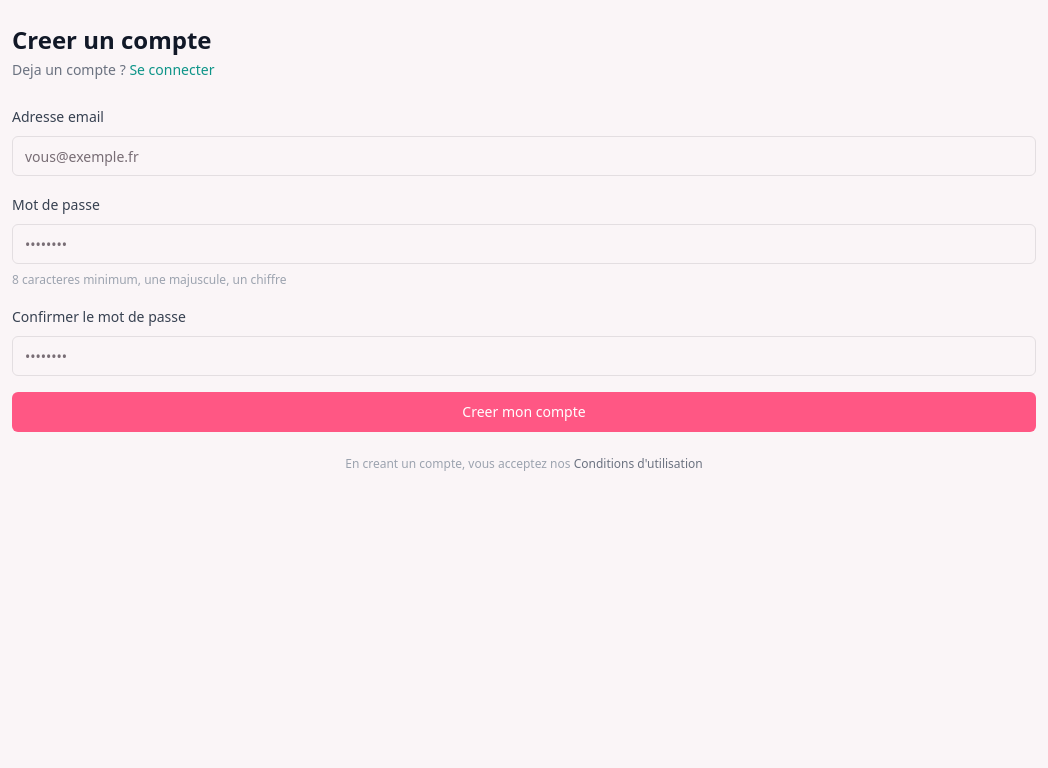
Test case: RegisterPage › shows server error when registration fails
In the field labelled "Adresse email": x=524, y=156 [12,136,1036,176], type "existing@example.com"
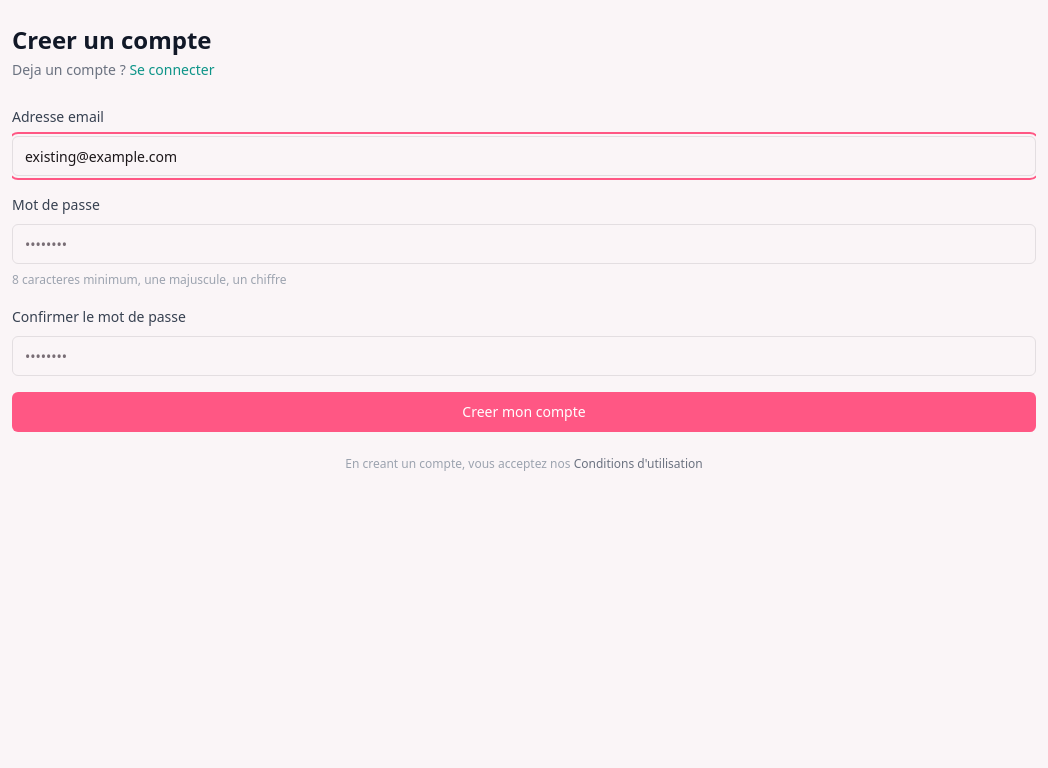
In the password field labelled "Mot de passe": x=524, y=244 [12,224,1036,264], type "MyPassword1"
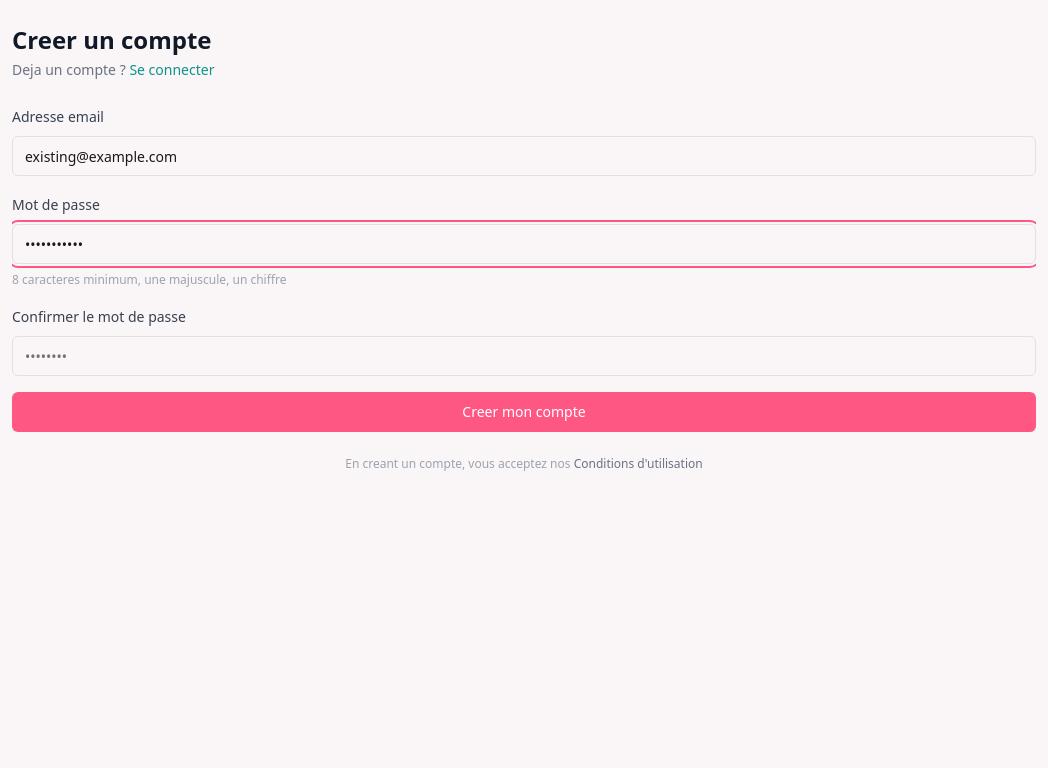
In the password field labelled "Confirmer le mot de passe": x=524, y=356 [12,336,1036,376], type "MyPassword1"
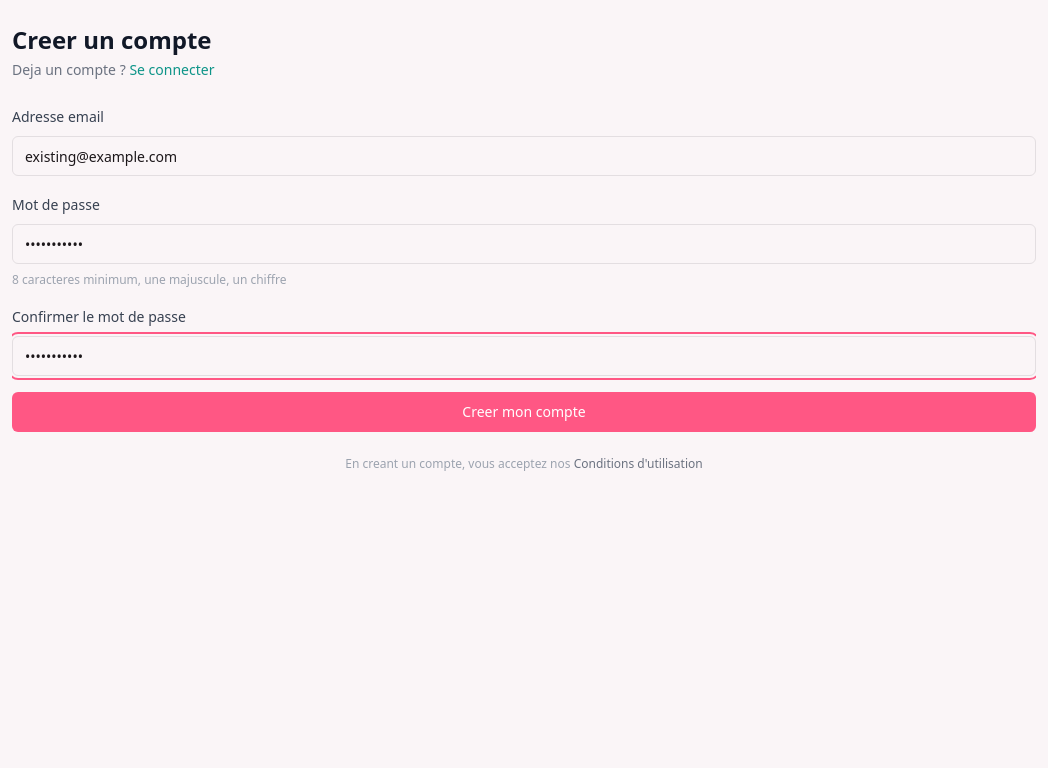
Click the button "Creer mon compte": x=524, y=412 [12,392,1036,432]
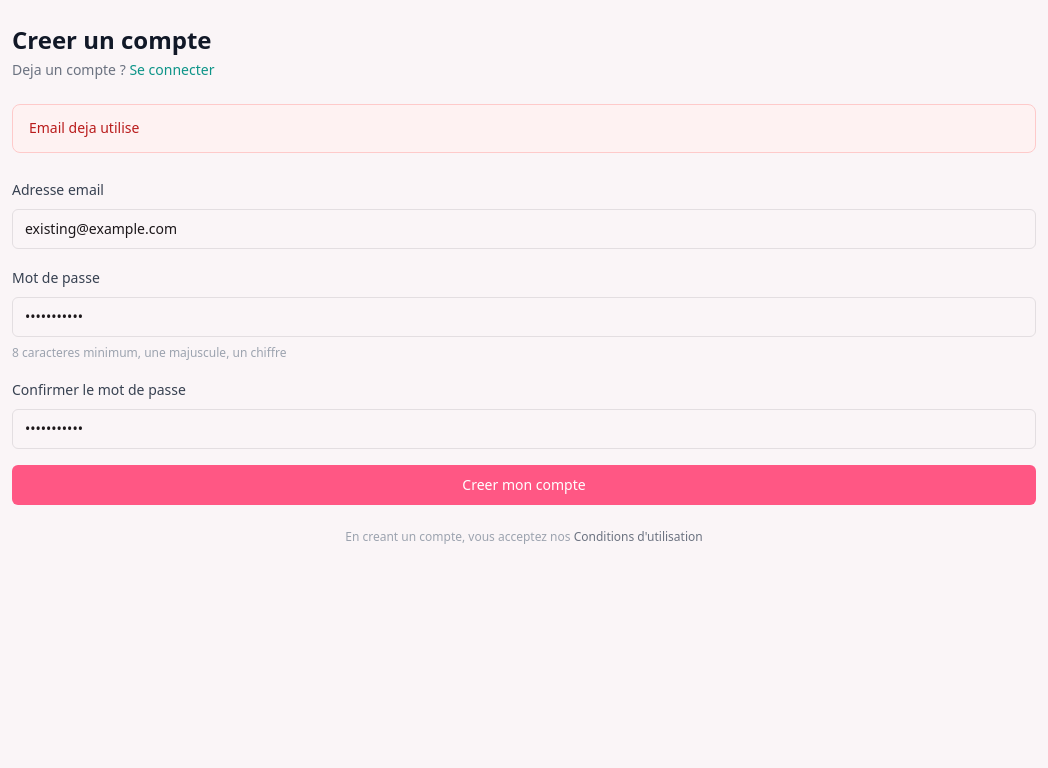
Expected: the message reads "Email deja utilise", [29,118,139,137]
